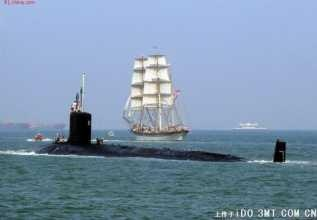fanchuan: (124, 48, 195, 140)
